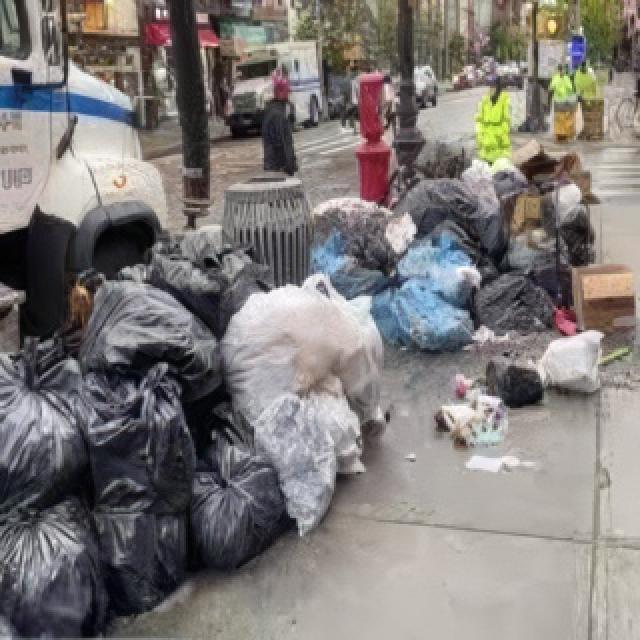high trash: (0, 232, 382, 636), (312, 150, 635, 446)
